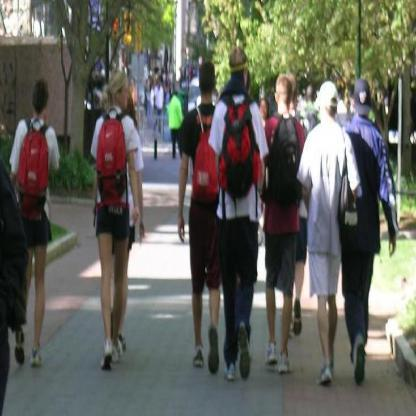person: (85, 70, 145, 368), (209, 46, 261, 383), (7, 74, 56, 365), (264, 65, 301, 376)
